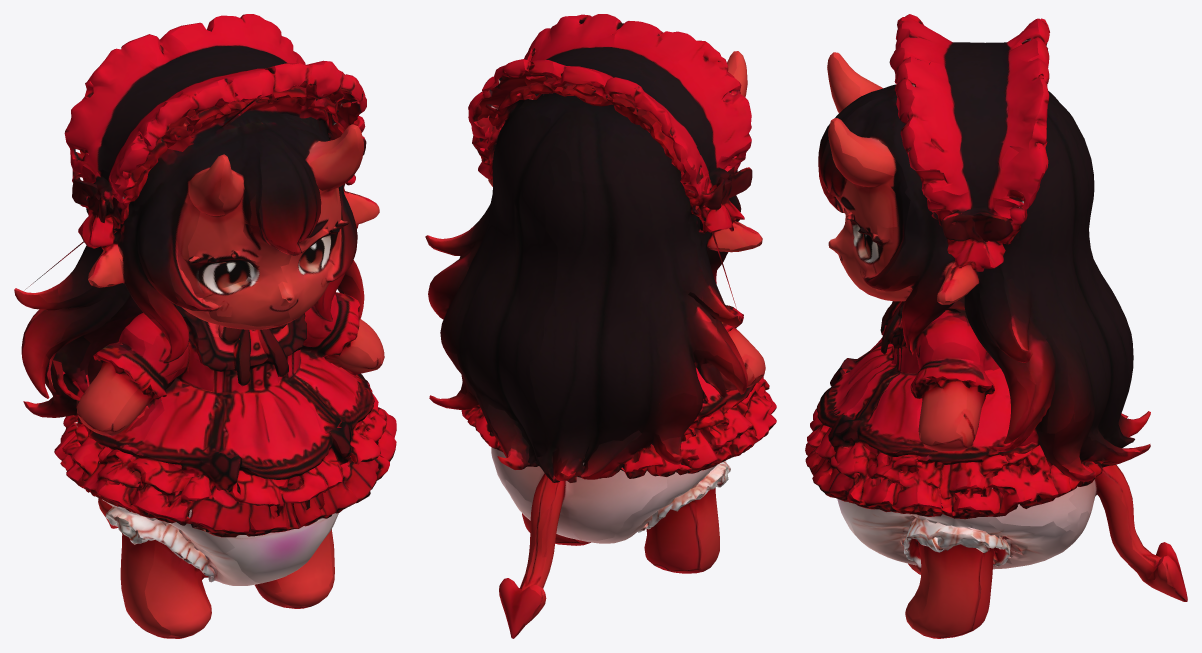
The model's file is lolodoll.glb.
3 renders of one model, left to right at view 1: azimuth 30°, elevation 25°; view 2: azimuth 150°, elevation 25°; view 3: azimuth 270°, elevation 25°, orthographic. The views are drawn at different scales.
Parts seen in each view (by area): view 1: temp_mesh.ply; view 2: temp_mesh.ply; view 3: temp_mesh.ply.
Boxes of the visible parts, bbox=[...] form: temp_mesh.ply: bbox=[14, 14, 396, 638]; temp_mesh.ply: bbox=[425, 14, 776, 638]; temp_mesh.ply: bbox=[805, 14, 1187, 638].
Bounding box in the file's own units: 1.27 × 1.97 × 1.22.
Materials: 1 (1 with a texture image).
